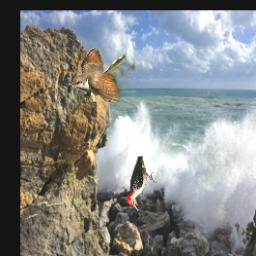Cuckoo: (70, 48, 135, 103)
Woodpecker: (128, 157, 157, 212)
